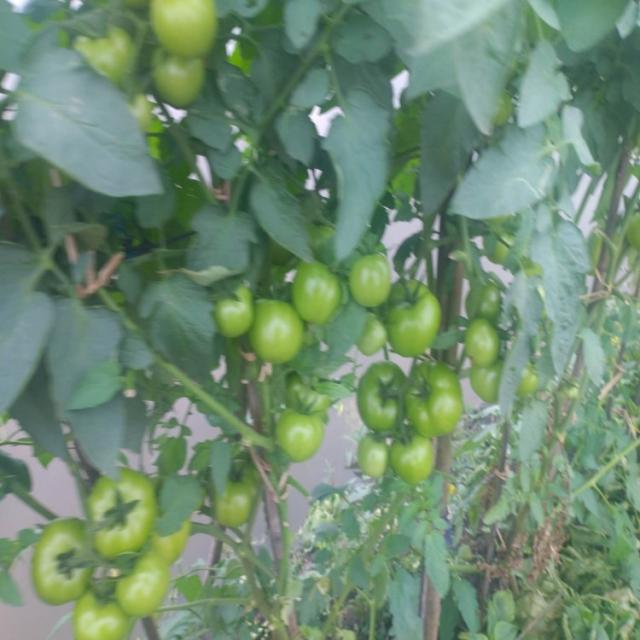tomato: (88, 468, 155, 543), (35, 515, 92, 601), (403, 363, 469, 436), (146, 2, 226, 61), (74, 27, 143, 89), (380, 284, 437, 357), (145, 52, 215, 109), (111, 558, 172, 618), (211, 460, 263, 527), (357, 363, 406, 429), (298, 256, 346, 319), (273, 408, 328, 461), (254, 300, 303, 359), (391, 427, 439, 482), (156, 494, 195, 559), (77, 594, 132, 640), (353, 251, 389, 313), (471, 360, 514, 408), (286, 377, 341, 412), (216, 285, 253, 336), (462, 320, 500, 368), (464, 284, 504, 328), (356, 433, 388, 477), (482, 232, 516, 271), (521, 366, 541, 408), (626, 212, 640, 259)
